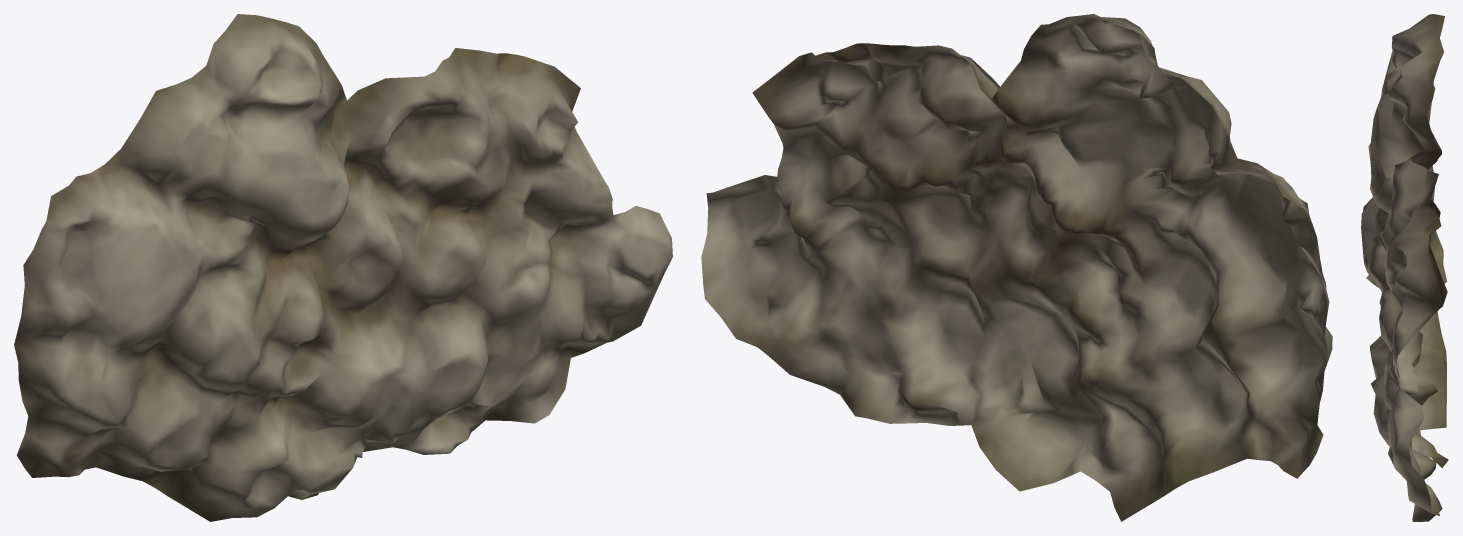
File: Barnacle05.fbx
3 views of the same model, side by side, from view 1: azimuth 30°, elevation 25°; view 2: azimuth 150°, elevation 25°; view 3: azimuth 270°, elevation 25° (orthographic). The views are drawn at different scales.
Parts seen in each view (by area): view 1: Barnacle05; view 2: Barnacle05; view 3: Barnacle05.
Boxes of the visible parts, x1,y1,x2,y2 form: Barnacle05: (14,14,672,521); Barnacle05: (701,14,1332,521); Barnacle05: (1361,14,1448,521).
Bounding box in the file's own units: 70.84 × 53.14 × 10.02.
